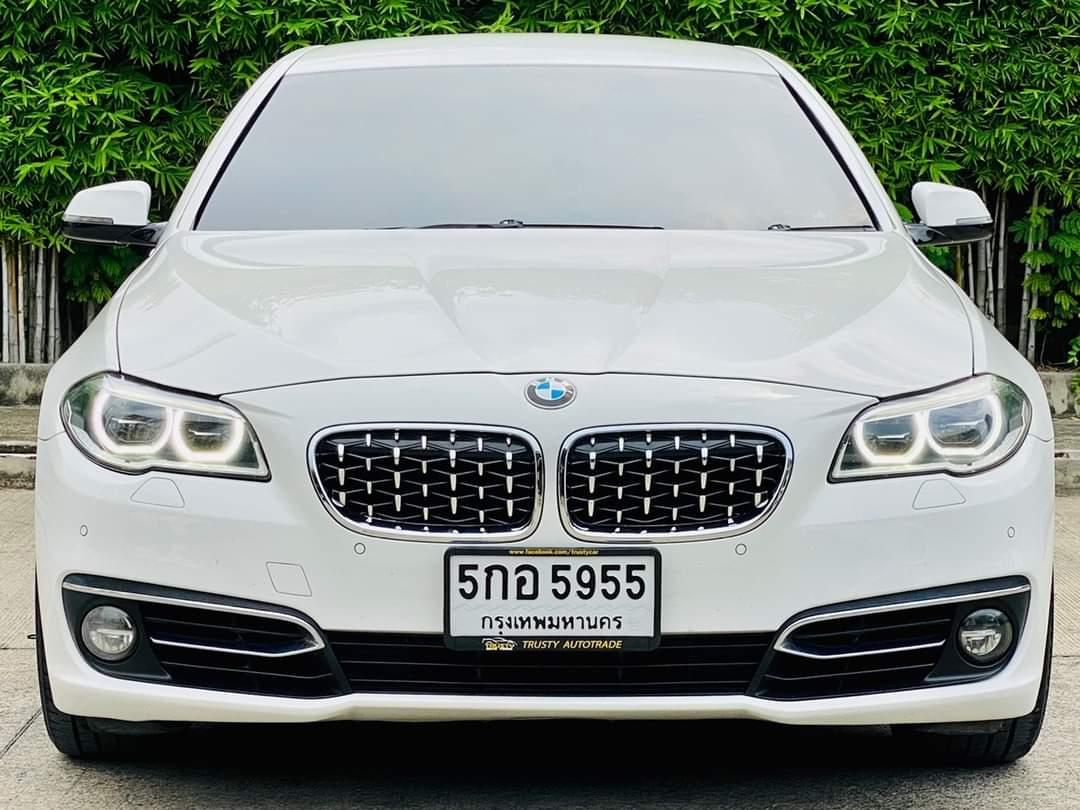license-plate: (443, 543, 665, 657)
